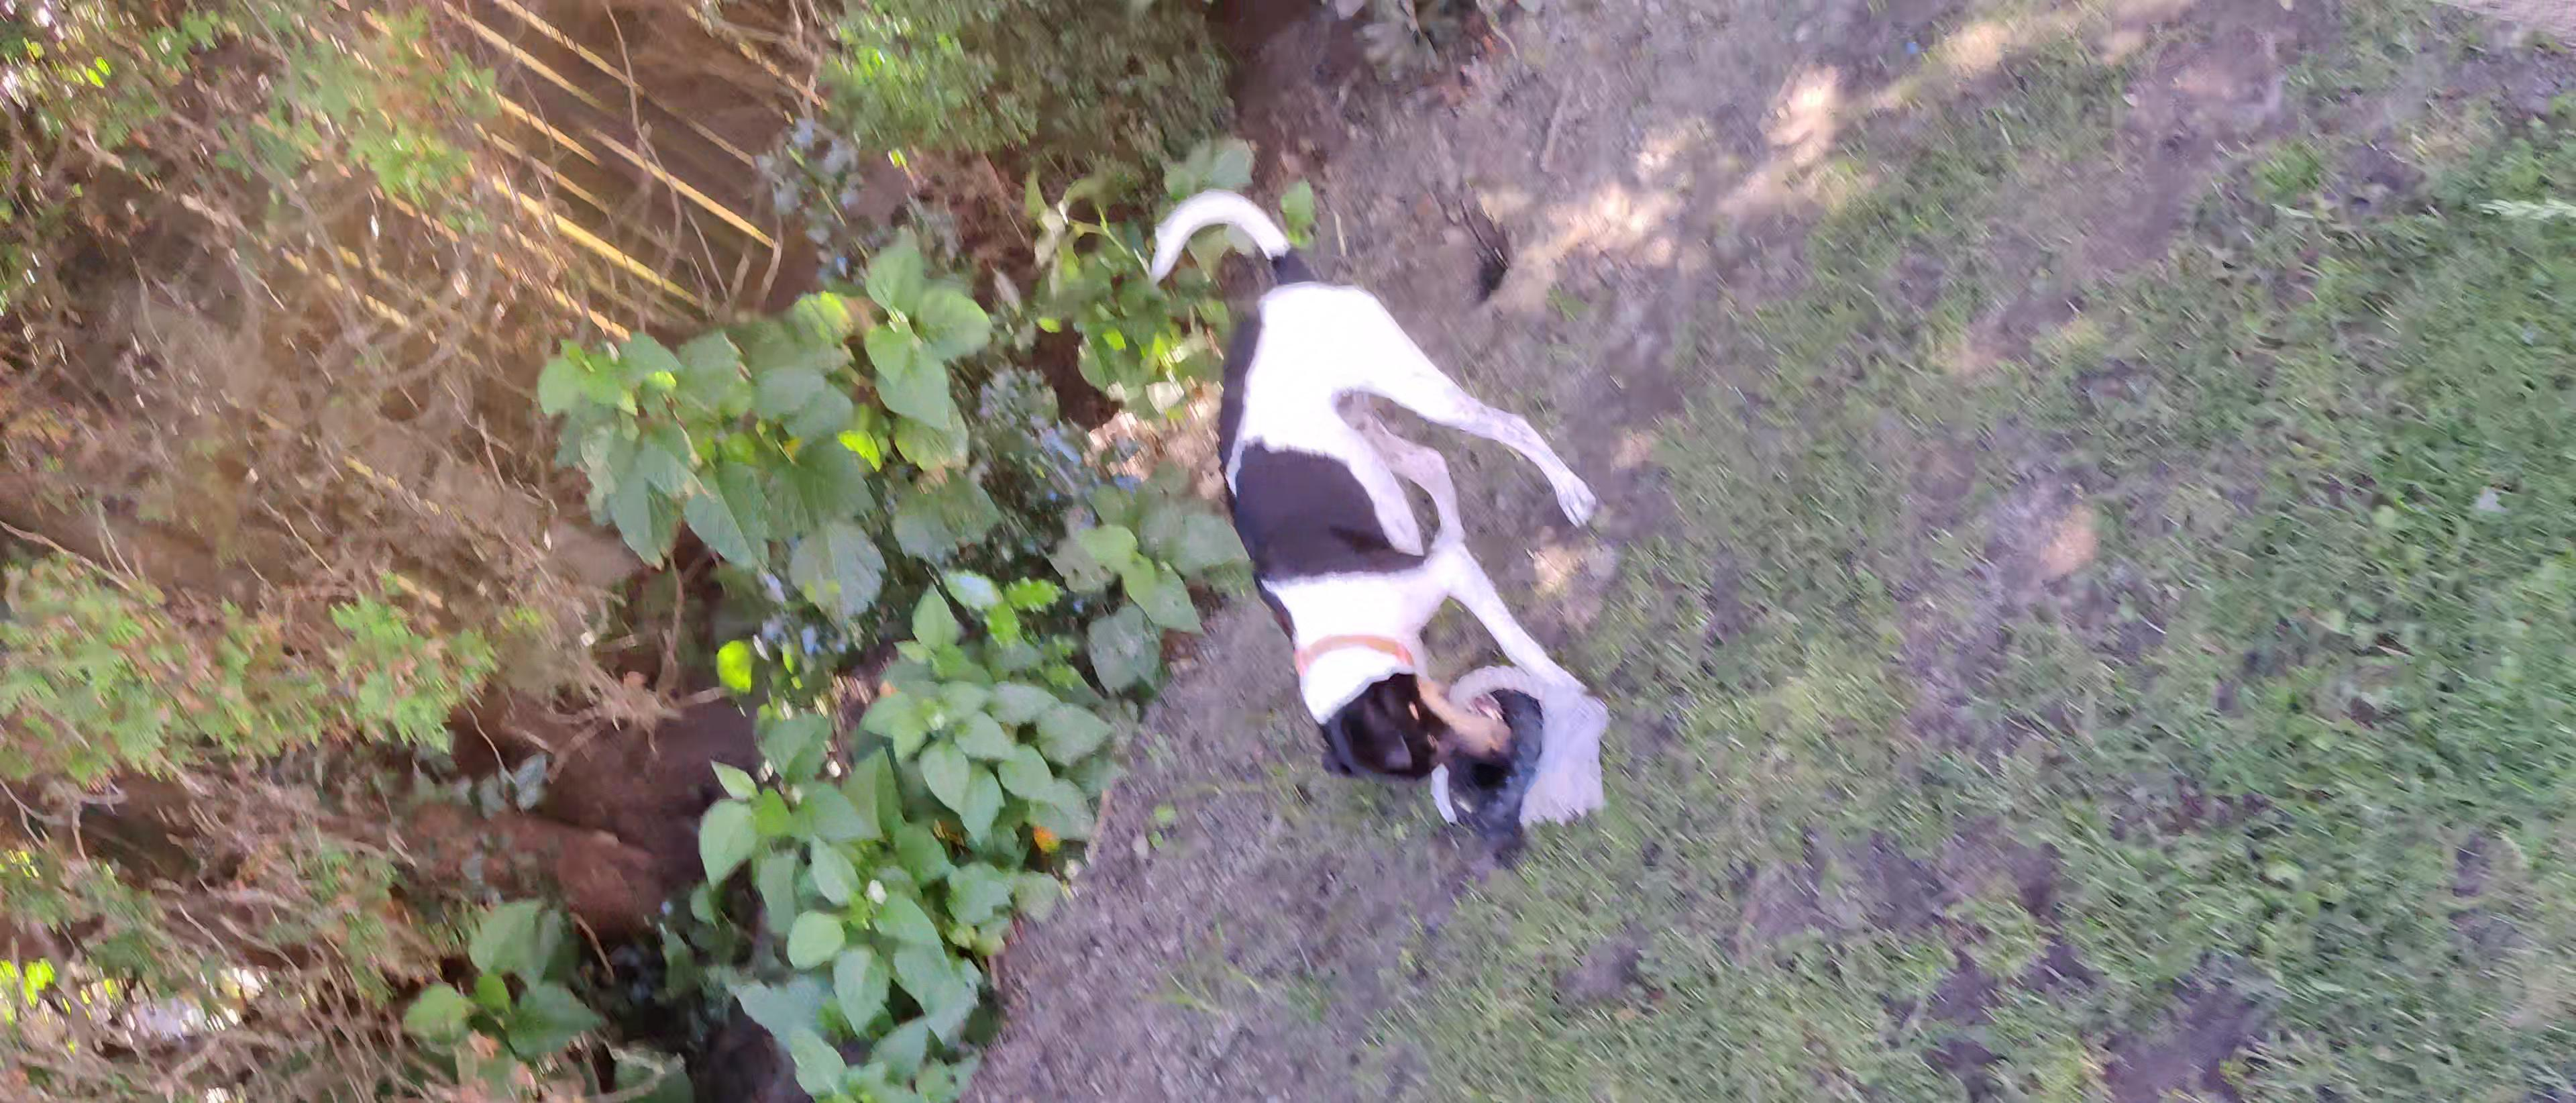Dog: (1137, 182, 1610, 796)
